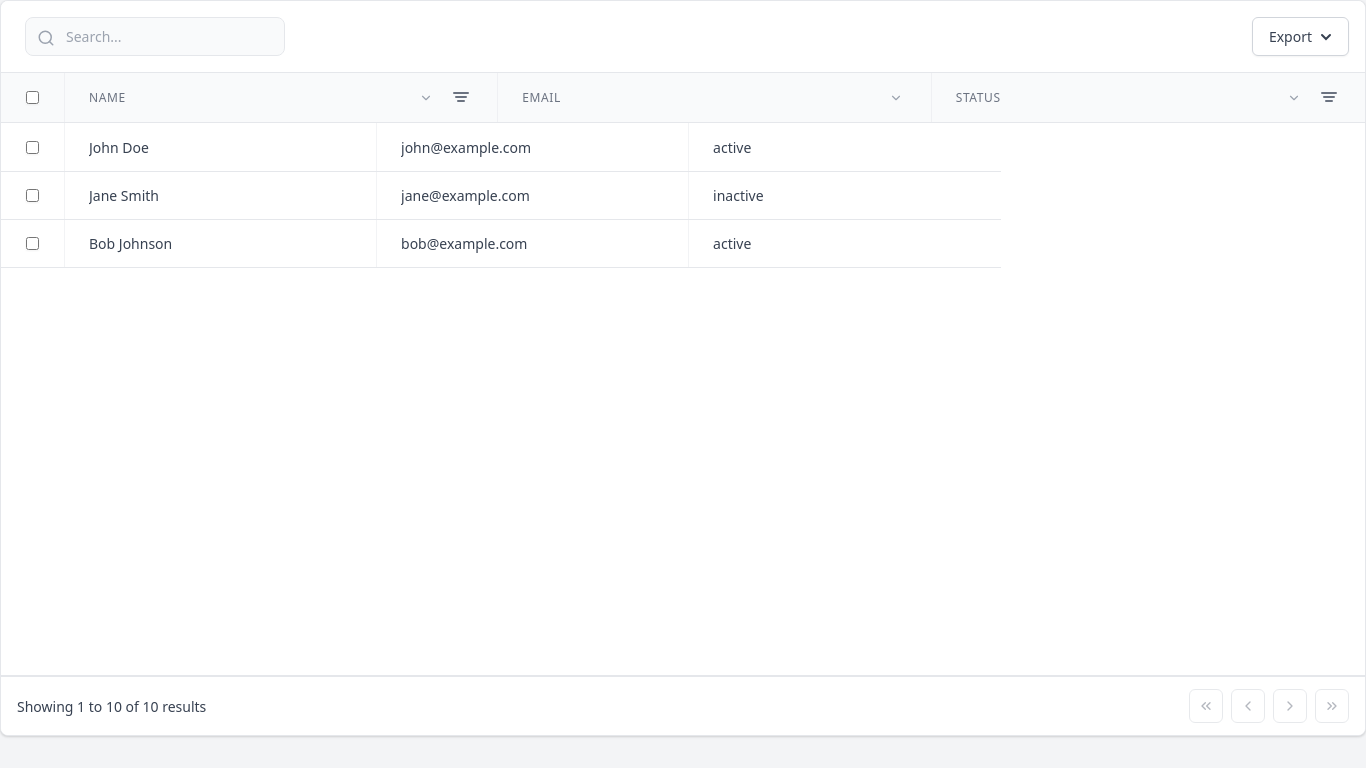
Test: DataTable › handles sorting
Click the button "Name": (107, 97) [89, 88, 126, 106]
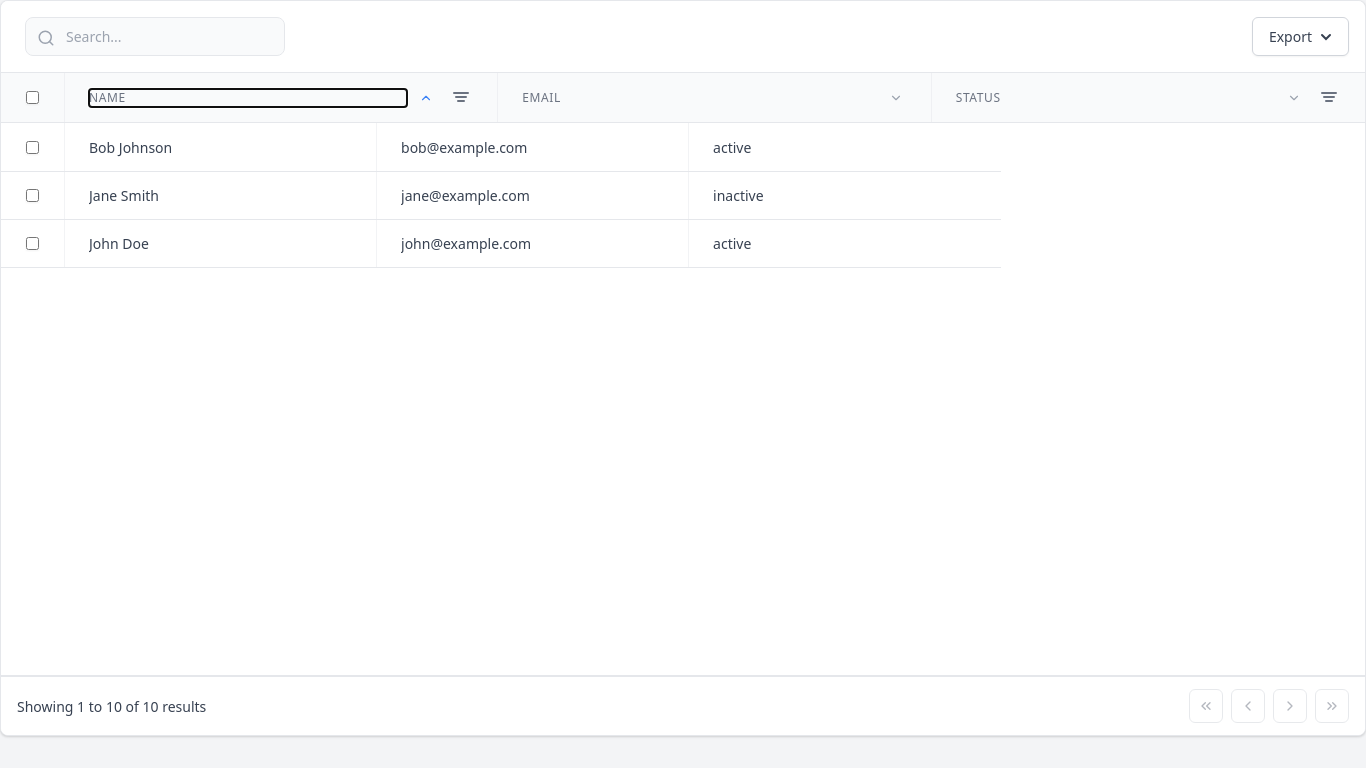
Check: the cell "Bob Johnson" is shown, box [65, 123, 377, 171]
